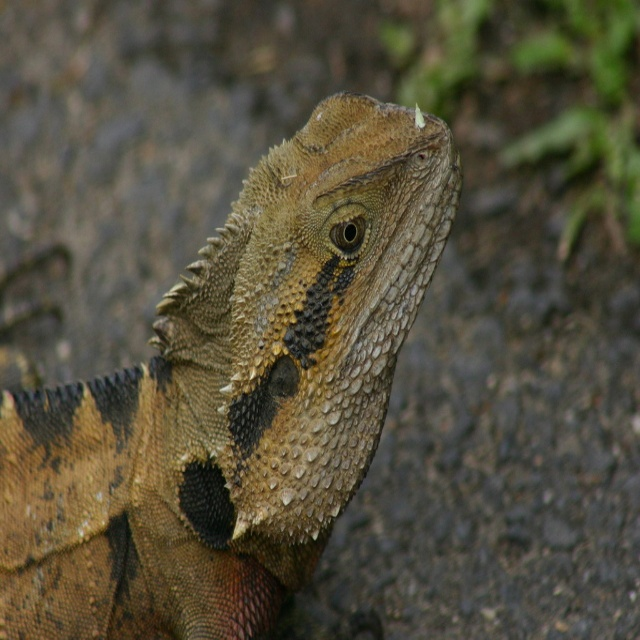Lizard: (0, 63, 457, 640)
